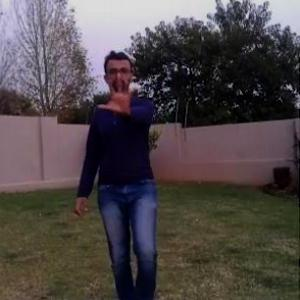follow_hand: (95, 68, 140, 118)
